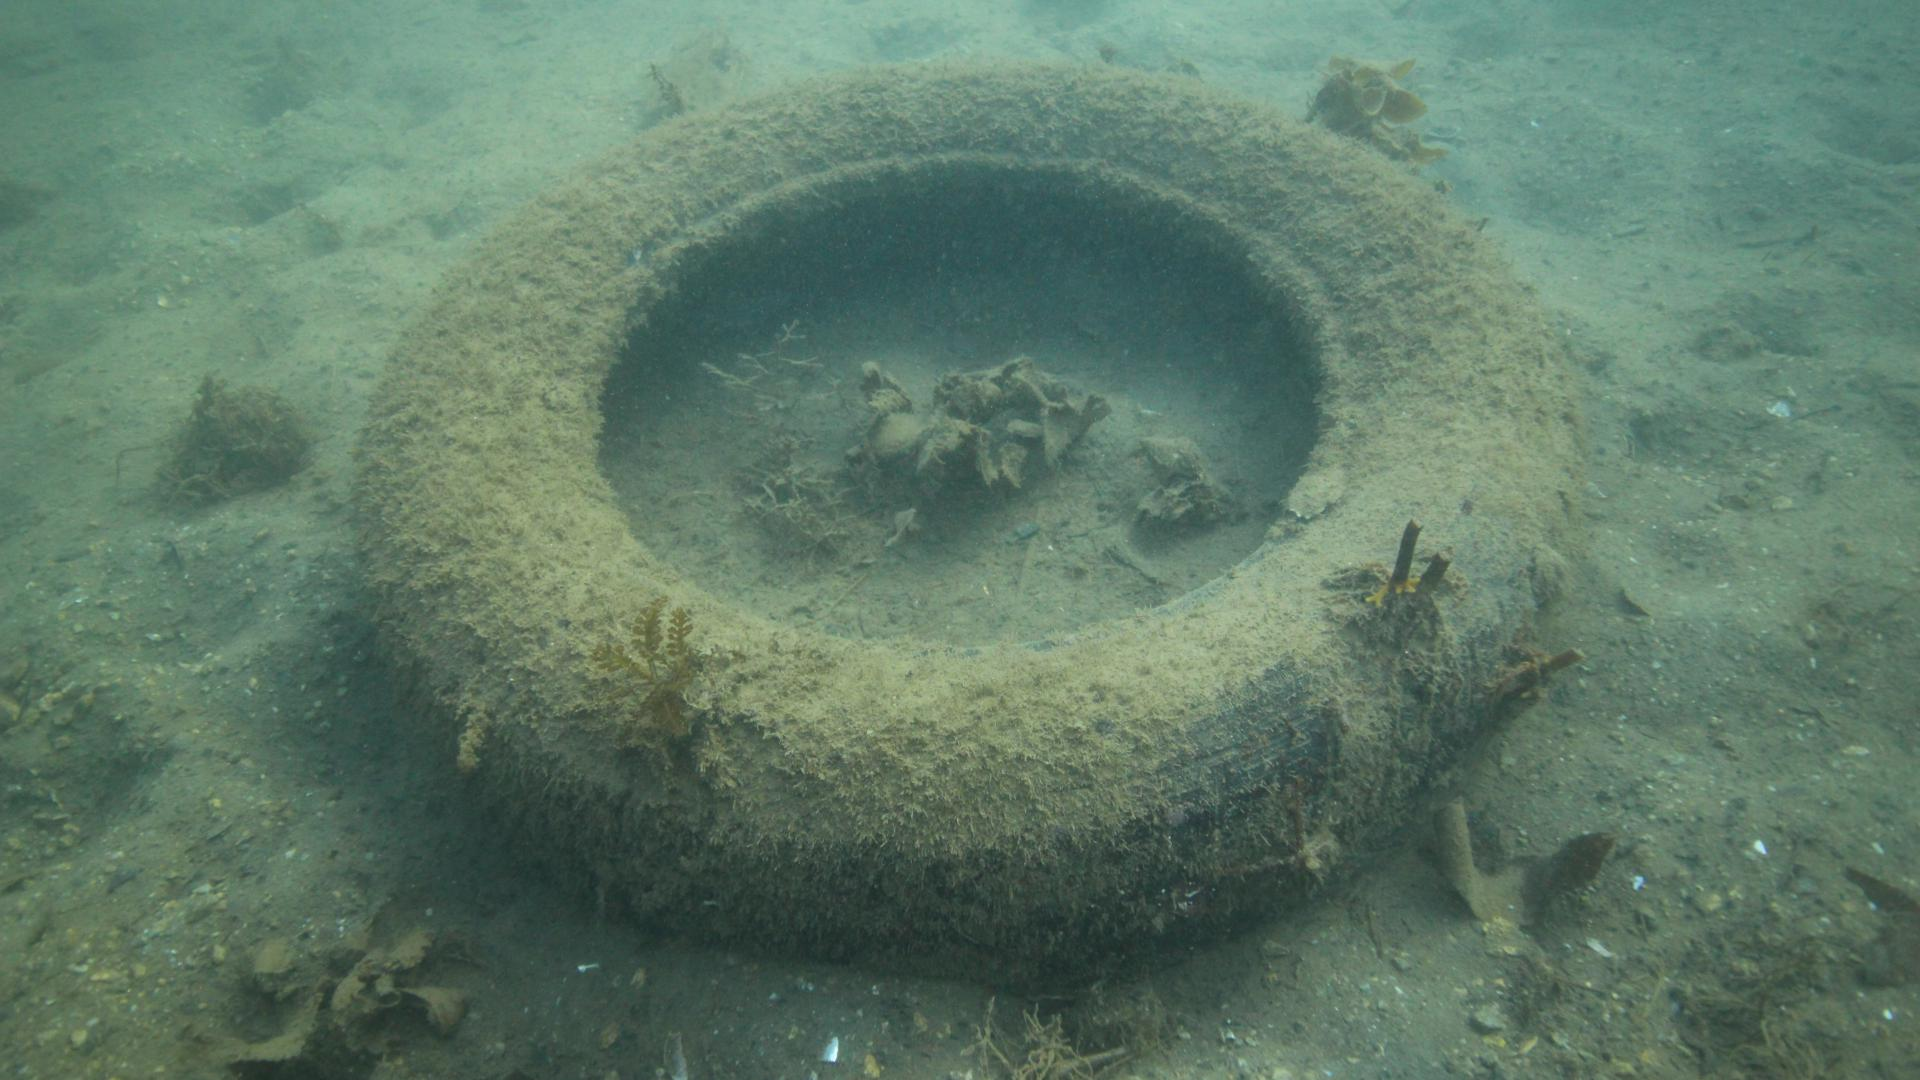tire: (348, 53, 1581, 992)
